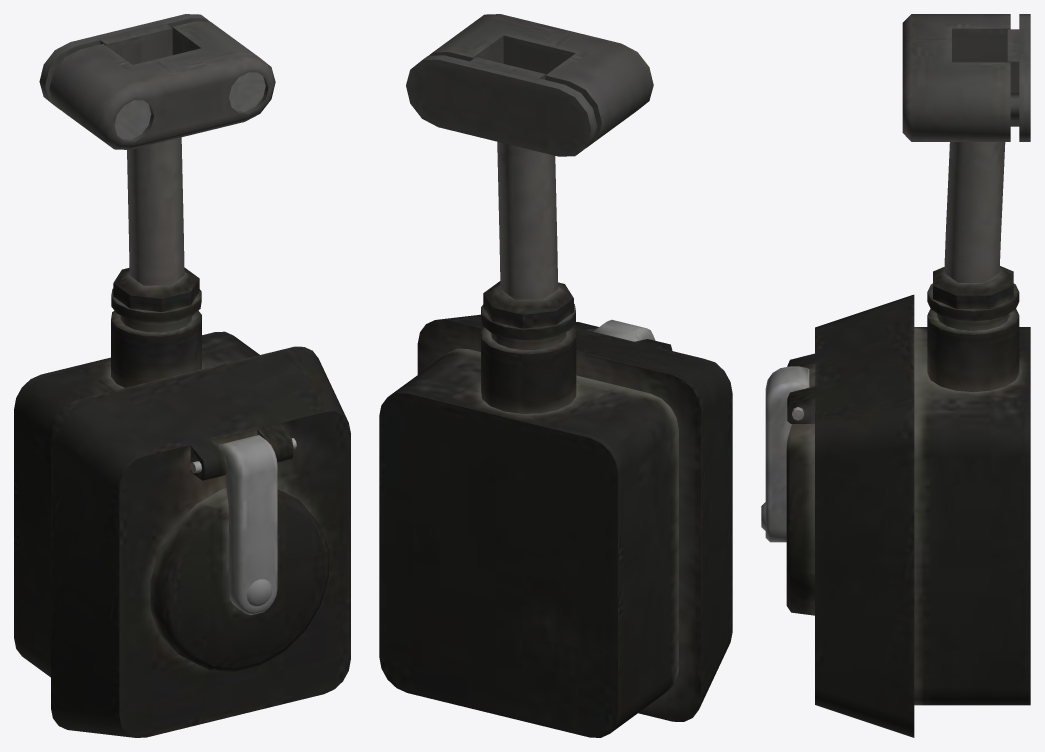
File: cable_plug_covered.gltf
3 renders of one model, left to right at view 1: azimuth 30°, elevation 25°; view 2: azimuth 150°, elevation 25°; view 3: azimuth 270°, elevation 25°, orthographic. The views are drawn at different scales.
Visible parts, largest first — view 1: cable_plug_covered; view 2: cable_plug_covered; view 3: cable_plug_covered.
Boxes of the visible parts, <box> form: cable_plug_covered: <box>14,14,350,737</box>; cable_plug_covered: <box>379,14,732,737</box>; cable_plug_covered: <box>761,14,1030,737</box>.
Size of the model in its own units: 0.0635 by 0.1424 by 0.0546.
1 material, 1 textured.
